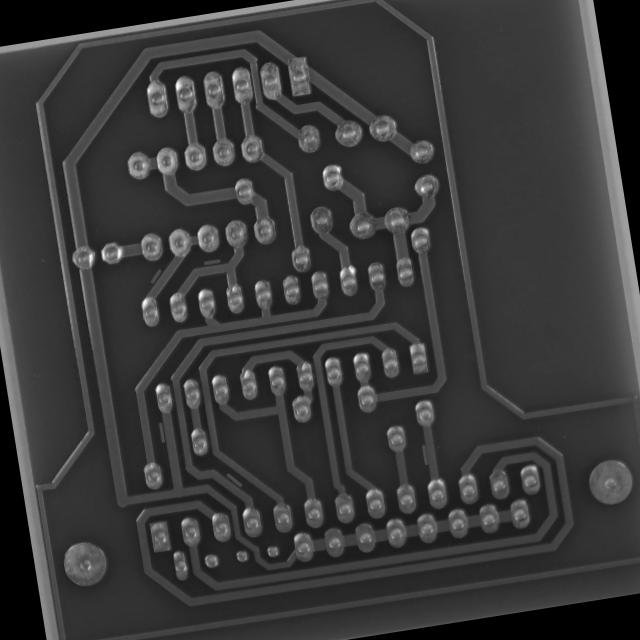spurious_copper: (222, 466, 246, 496), (416, 442, 433, 469), (154, 418, 170, 446), (143, 266, 166, 284), (200, 253, 223, 270)
